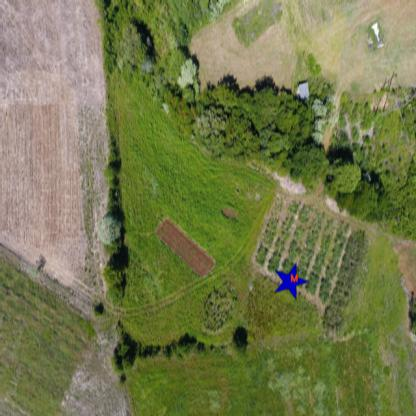M: (287, 272, 300, 284)
star: (271, 261, 310, 305)
